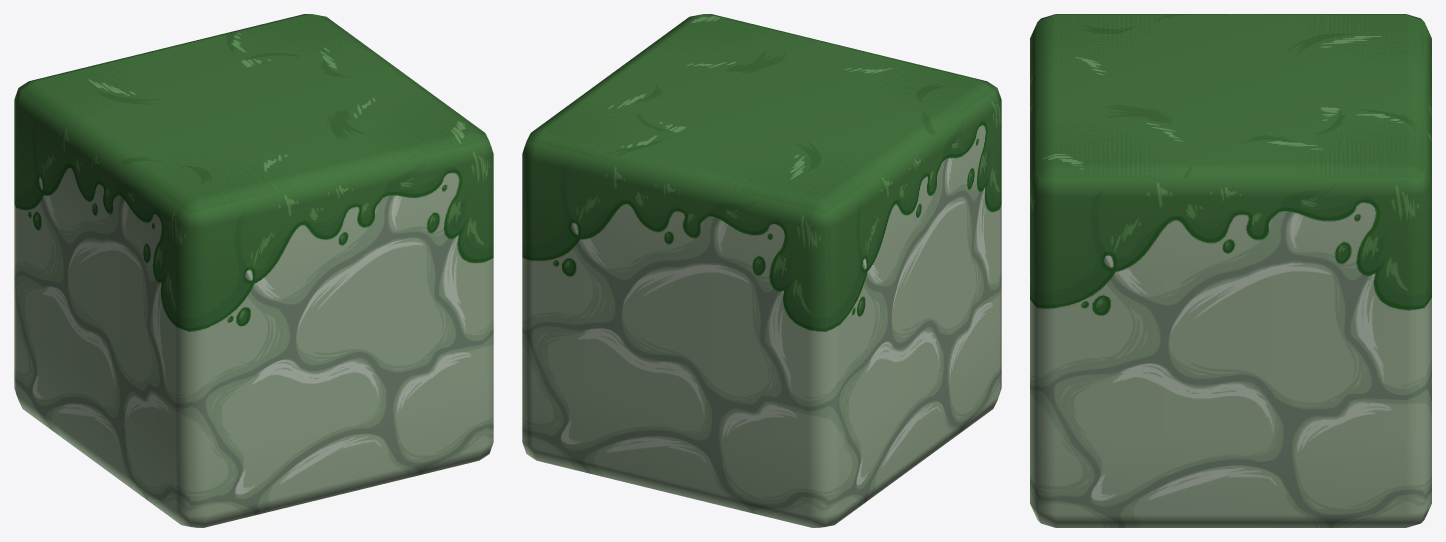
File: Lego2.fbx
3 views of the same model, side by side, from view 1: azimuth 30°, elevation 25°; view 2: azimuth 150°, elevation 25°; view 3: azimuth 270°, elevation 25° (orthographic). The views are drawn at different scales.
Parts seen in each view (by area): view 1: LEGOFloor2; view 2: LEGOFloor2; view 3: LEGOFloor2.
Boxes of the visible parts, x1,y1,x2,y2 form: LEGOFloor2: (14,14,493,527); LEGOFloor2: (522,14,1001,527); LEGOFloor2: (1030,14,1431,527).
Size of the model in its own units: 10 by 10 by 10.
1 material, 1 textured.
